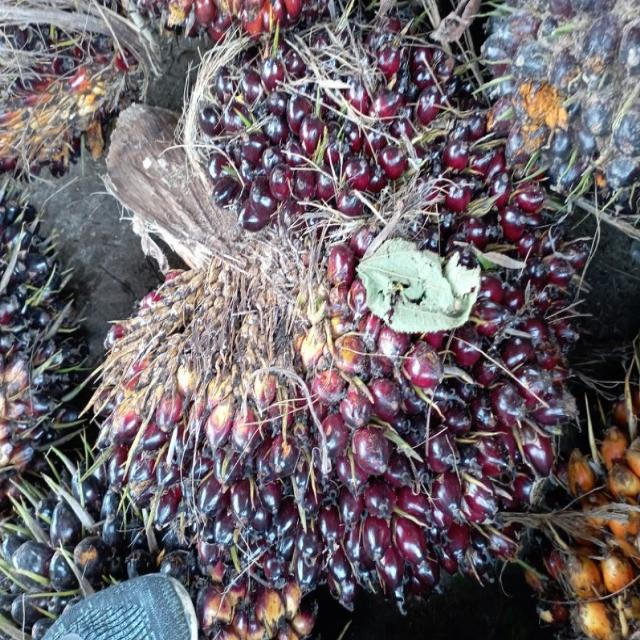fraksi 1: (104, 34, 571, 602)
